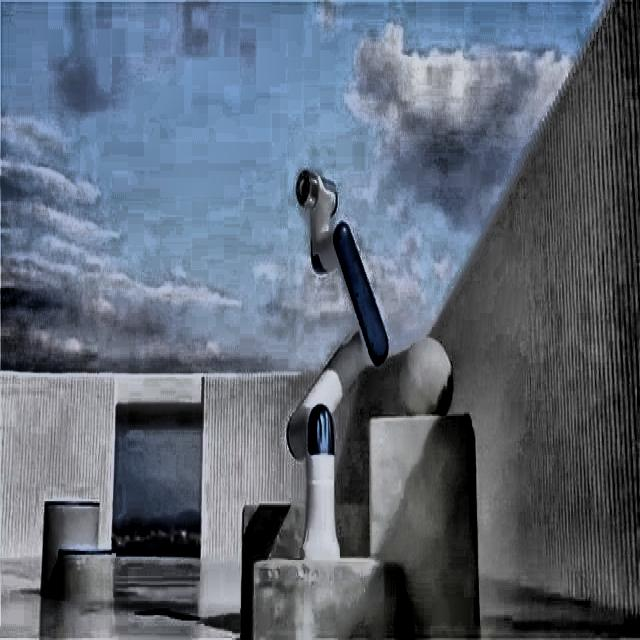robot: (285, 166, 389, 558)
